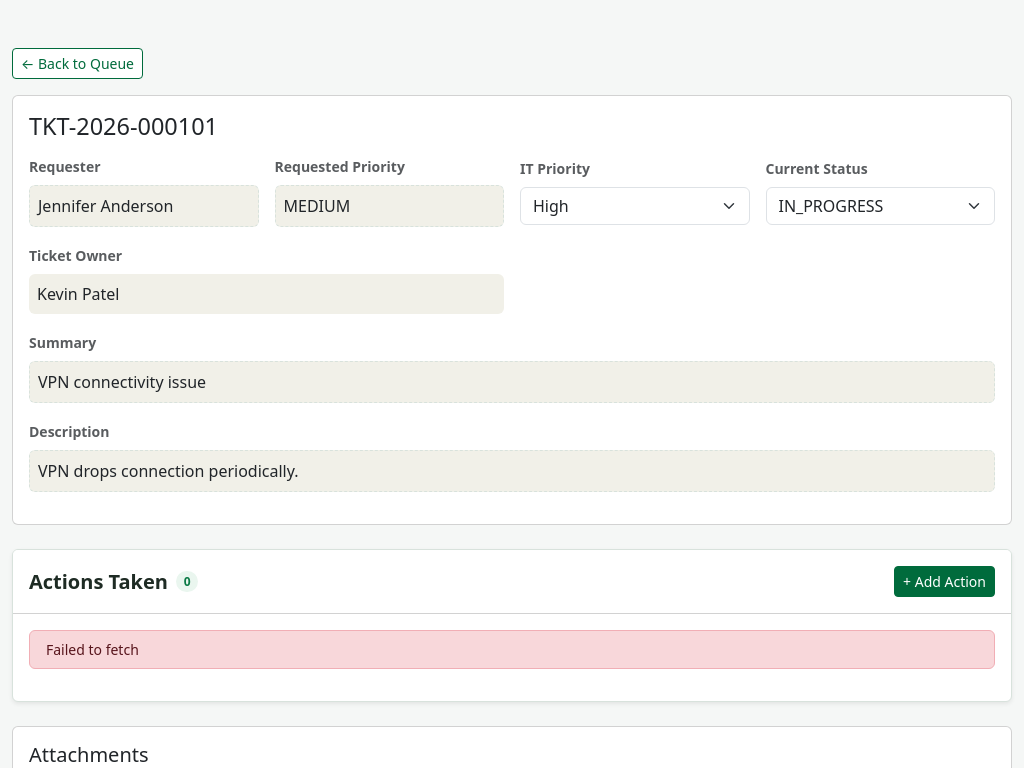
Test: UI-05: Staff Ticket Workflow & Resolution Gate (AC-08, AC-09, AC-10) › displays resolution gate missing items when transition to RESOLVED fails (409)
Expected: the heading "TKT-2026-000101" is shown, [29,110,218,142]
Select "RESOLVED" in the dropdown showing "IN_PROGRESS" below "Current Status" at (880, 206), box [766,187,995,225]
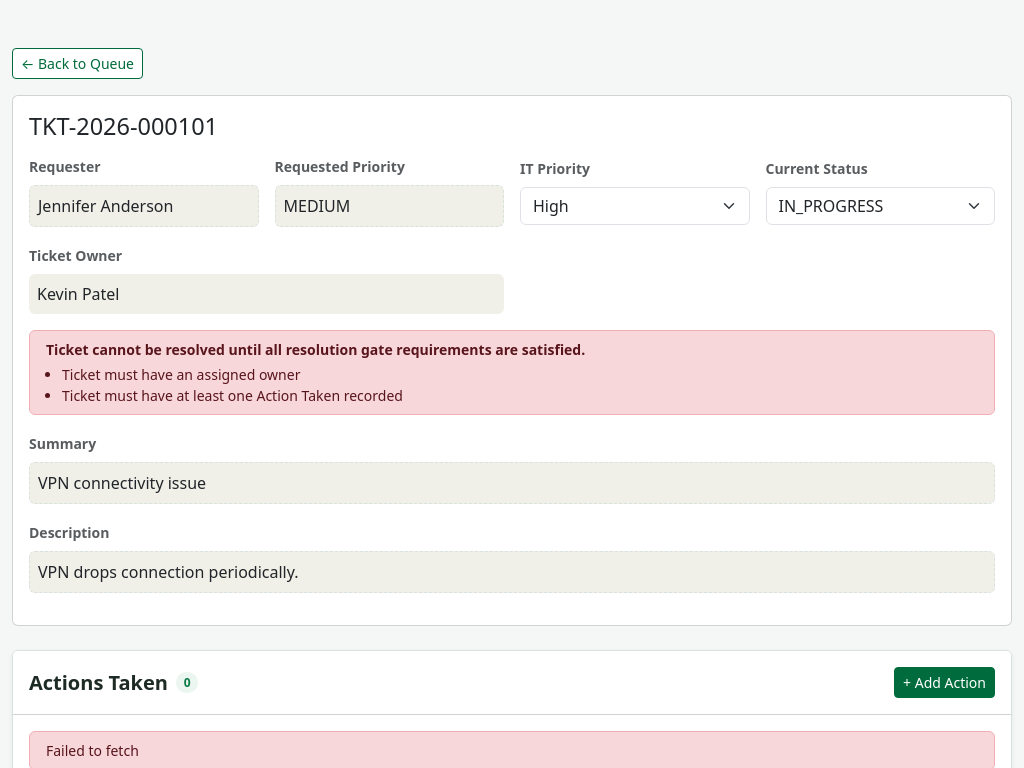
Now the message is shown, box [29,330,995,415]
Now the text "resolution gate requirements are satisfied" is shown, box [46,340,585,359]
Now the list item "Ticket must have an assigned owner" is shown, box [62,365,300,384]
